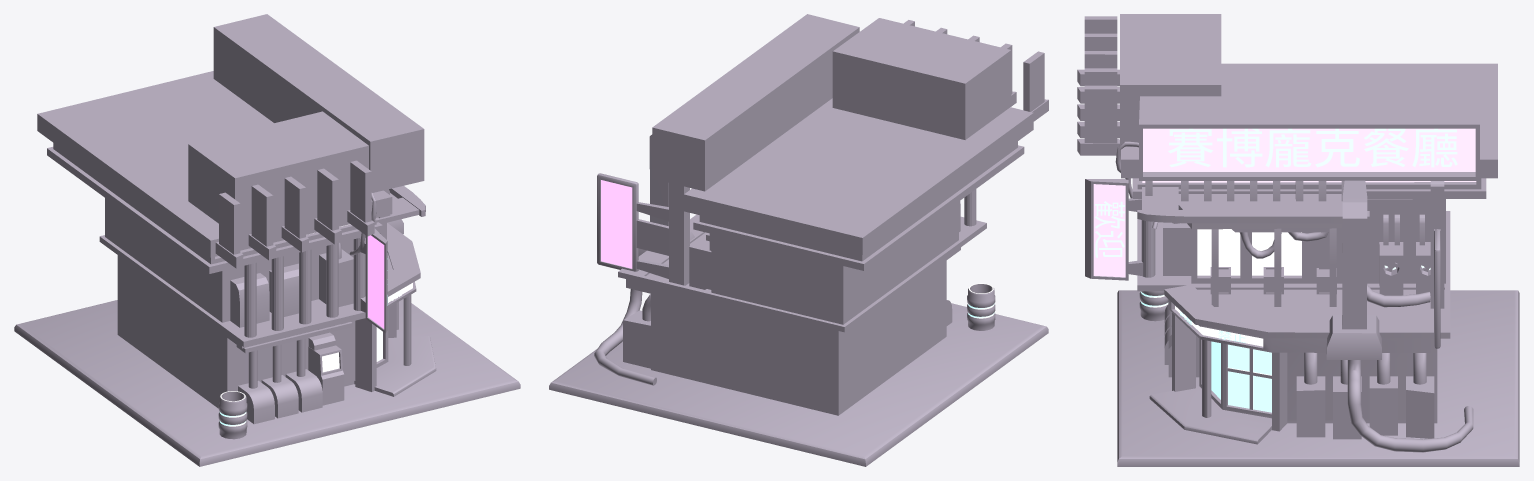
The model's file is Resteraunt.glb.
3 views of the same model, side by side, from view 1: azimuth 30°, elevation 25°; view 2: azimuth 150°, elevation 25°; view 3: azimuth 270°, elevation 25° (orthographic). The views are drawn at different scales.
Visible parts, largest first — view 1: Plane, Circle; view 2: Plane; view 3: Plane, Text, Circle, Text.001.
Boxes of the visible parts, x1,y1,x2,y2 form: Plane: [14, 14, 520, 466]; Circle: [244, 237, 365, 337]; Plane: [549, 14, 1048, 466]; Plane: [1077, 14, 1519, 466]; Text: [1168, 128, 1457, 167]; Circle: [1141, 220, 1155, 277]; Text.001: [1095, 201, 1124, 257].
Bounding box in the file's own units: 60.02 × 49.8 × 65.97.
